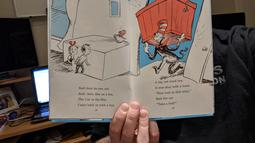text block: (151, 77, 194, 106), (74, 84, 117, 110)
